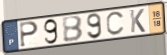9: (86, 12, 104, 41), (42, 17, 59, 45)
B: (61, 15, 84, 44)
C: (105, 10, 126, 37)
K: (129, 8, 147, 34)
P: (19, 21, 40, 48)
